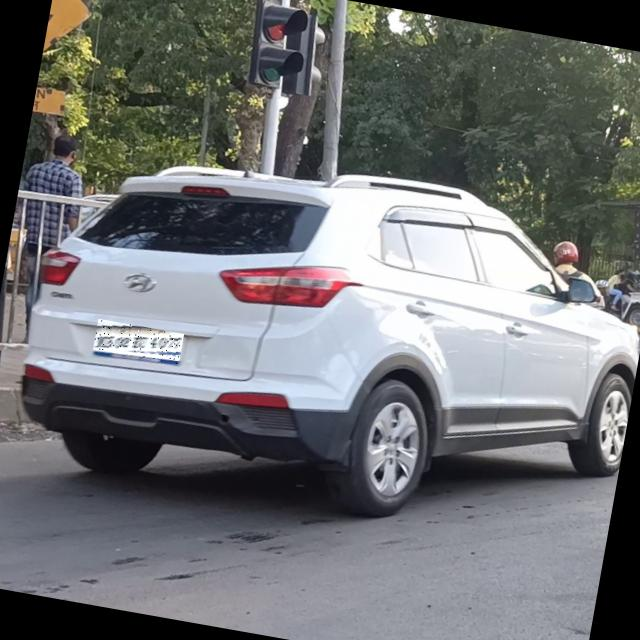Plate: (94, 319, 185, 365)
